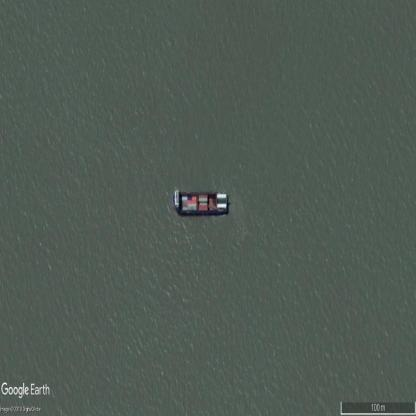ship: (172, 188, 230, 220)
